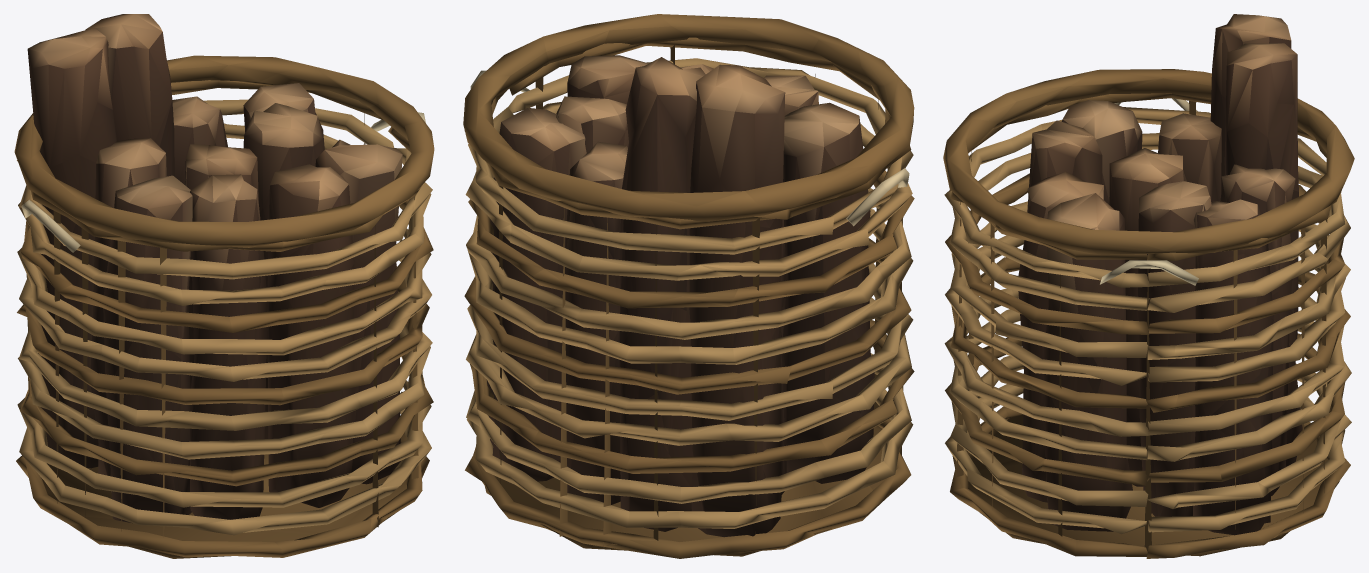
The model's file is ember_log_basket_lod2.glb.
The picture shows the model from 3 angles, left to right: view 1: azimuth 30°, elevation 25°; view 2: azimuth 150°, elevation 25°; view 3: azimuth 270°, elevation 25°; orthographic projection. The views are drawn at different scales.
Visible parts, largest first — view 1: ember_log_basket.001; view 2: ember_log_basket.001; view 3: ember_log_basket.001.
Boxes of the visible parts, x1=… form: ember_log_basket.001: x1=14, y1=14, x2=434, y2=558; ember_log_basket.001: x1=463, y1=14, x2=914, y2=558; ember_log_basket.001: x1=943, y1=14, x2=1354, y2=558.
Bounding box in the file's own units: 32.51 × 33.9 × 30.34.
